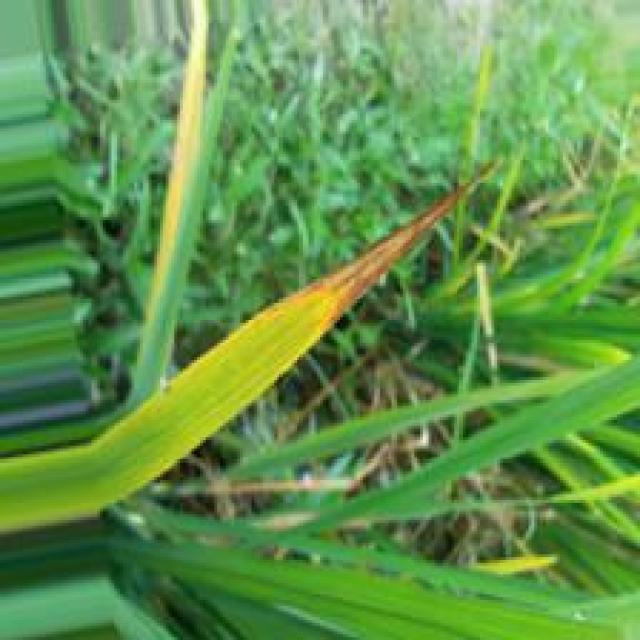Leaf_Scald: (287, 193, 460, 337)
